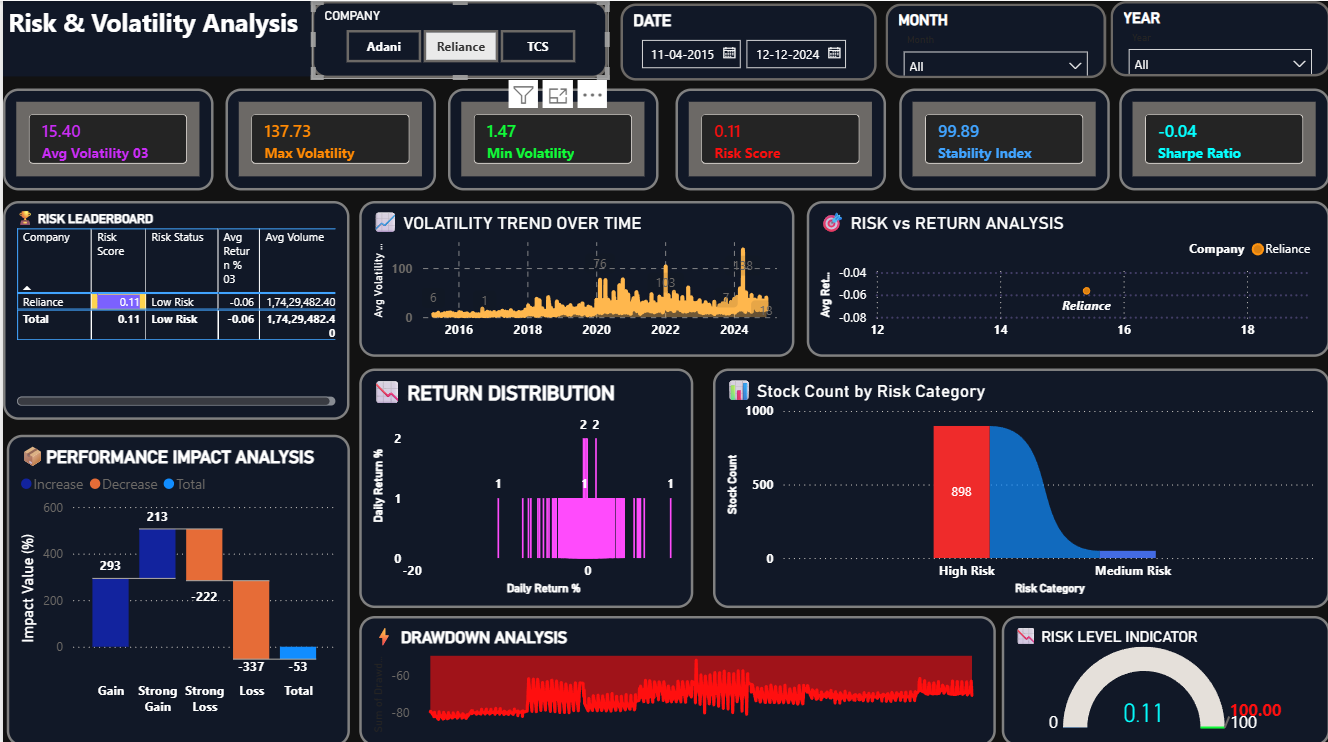

What the dashboard file says about the page in this screenshot:
{"tool":"powerbi","page":{"name":"⚠  Risk & Volatility Analysis","canvas":[1280,720],"ordinal":2},"visuals":[{"type":"textbox","box":[0,0,298,72.6],"z":0},{"type":"slicer","title":"COMPANY","fields":{"Values":["feature_engineered_stock_data.Company"]},"box":[298.1,0,285.9,74.5],"z":1000},{"type":"slicer","title":"DATE","fields":{"Values":["feature_engineered_stock_data.Date"]},"box":[596.3,2.4,246.8,74.5],"z":2000},{"type":"slicer","title":"MONTH","fields":{"Values":["feature_engineered_stock_data.Month"]},"box":[851.6,2.4,212.6,72.1],"z":3000},{"type":"slicer","title":"YEAR","fields":{"Values":["feature_engineered_stock_data.Year"]},"box":[1068.7,0,211.8,72.6],"z":4000},{"type":"cardVisual","fields":{"Data":["Measure_Table_03.Avg Volatility 03"]},"box":[0,85,203.2,98.5],"z":5000},{"type":"cardVisual","fields":{"Data":["Measure_Table_03.Max Volatility"]},"box":[214.2,85,203.2,98.5],"z":6000},{"type":"cardVisual","fields":{"Data":["Measure_Table_03.Min Volatility"]},"box":[429.7,85,203.2,98.5],"z":7000},{"type":"cardVisual","fields":{"Data":["Measure_Table_03.Risk Score"]},"box":[648.9,85,203.2,98.5],"z":8000},{"type":"cardVisual","fields":{"Data":["Measure_Table_03.Stability Index"]},"box":[865.6,85,203.2,98.5],"z":9000},{"type":"cardVisual","fields":{"Data":["Measure_Table_03.Sharpe Ratio"]},"box":[1077.3,85,203.2,98.5],"z":10000},{"type":"gauge","title":" 📉 RISK LEVEL INDICATOR","fields":{"Y":["Measure_Table_03.Risk Score"],"MaxValue":["Measure_Table_03.Risk Max"],"MinValue":["Measure_Table_03.Risk Min"]},"box":[964,593.8,316.5,125.9],"z":11000},{"type":"areaChart","title":"📈 VOLATILITY TREND OVER TIME","fields":{"Y":["Measure_Table_03.Avg Volatility 03"],"Category":["feature_engineered_stock_data.Date.Variation.Date Hierarchy.Year","feature_engineered_stock_data.Date.Variation.Date Hierarchy.Quarter","feature_engineered_stock_data.Date.Variation.Date Hierarchy.Month","feature_engineered_stock_data.Date.Variation.Date Hierarchy.Day"]},"box":[343.3,193.1,420.3,150.3],"z":12000},{"type":"tableEx","title":"🏆 RISK LEADERBOARD","fields":{"Values":["feature_engineered_stock_data.Company","Measure_Table_03.Risk Score","Measure_Table_03.Risk Status","Measure_Table_03.Avg Return % 03","Ranking Measure.Avg Volume"]},"box":[0,193.1,334.8,211.4],"z":13000},{"type":"scatterChart","title":"🎯 RISK vs RETURN ANALYSIS","fields":{"X":["Measure_Table_03.Avg Volatility 03"],"Y":["Measure_Table_03.Avg Return % 03"],"Category":["feature_engineered_stock_data.Company"],"Size":["Ranking Measure.Avg Volume"],"Series":["feature_engineered_stock_data.Company"]},"box":[775.9,193.1,504.6,150.3],"z":14000},{"type":"clusteredColumnChart","title":"📉 RETURN DISTRIBUTION","fields":{"Category":["feature_engineered_stock_data.Daily_Return_Percentage"],"Y":["Measure_Table_02.Return Frequency"]},"box":[343.3,354.3,322.6,230.9],"z":15000},{"type":"ribbonChart","title":"📊 Stock Count by Risk Category","fields":{"Category":["feature_engineered_stock_data.Risk Category"],"Y":["Measure_Table_03.Stock Count"]},"box":[685.5,354.3,595,230.9],"z":16000},{"type":"waterfallChart","title":"📦PERFORMANCE IMPACT ANALYSIS","fields":{"Category":["feature_engineered_stock_data.Return Category"],"Y":["Measure_Table_03.Impact Value"]},"box":[3.7,419.1,331.1,300.6],"z":17000},{"type":"areaChart","title":"⚡ DRAWDOWN ANALYSIS","fields":{"Y":["Sum(feature_engineered_stock_data.Drawdown %)"],"Category":["feature_engineered_stock_data.Date.Variation.Date Hierarchy.Year","feature_engineered_stock_data.Date.Variation.Date Hierarchy.Quarter","feature_engineered_stock_data.Date.Variation.Date Hierarchy.Month","feature_engineered_stock_data.Date.Variation.Date Hierarchy.Day"]},"box":[343.3,593.8,614.6,125.9],"z":18000}]}

Visuals, with their boxes in screenshot pixels (x1, y1, x2, y2), scaled from the page's 1280x720 canvas onto the 1328x742 screenshot:
textbox: left=0, top=0, right=309, bottom=75
"COMPANY" slicer: left=309, top=0, right=606, bottom=77
"DATE" slicer: left=619, top=2, right=875, bottom=79
"MONTH" slicer: left=884, top=2, right=1104, bottom=77
"YEAR" slicer: left=1109, top=0, right=1327, bottom=75
cardVisual - Measure_Table_03.Avg Volatility 03: left=0, top=88, right=211, bottom=189
cardVisual - Measure_Table_03.Max Volatility: left=222, top=88, right=433, bottom=189
cardVisual - Measure_Table_03.Min Volatility: left=446, top=88, right=657, bottom=189
cardVisual - Measure_Table_03.Risk Score: left=673, top=88, right=884, bottom=189
cardVisual - Measure_Table_03.Stability Index: left=898, top=88, right=1109, bottom=189
cardVisual - Measure_Table_03.Sharpe Ratio: left=1118, top=88, right=1327, bottom=189
" 📉 RISK LEVEL INDICATOR" gauge: left=1000, top=612, right=1327, bottom=741
"📈 VOLATILITY TREND OVER TIME" areaChart: left=356, top=199, right=792, bottom=354
"🏆 RISK LEADERBOARD" tableEx: left=0, top=199, right=347, bottom=417
"🎯 RISK vs RETURN ANALYSIS" scatterChart: left=805, top=199, right=1327, bottom=354
"📉 RETURN DISTRIBUTION" clusteredColumnChart: left=356, top=365, right=691, bottom=603
"📊 Stock Count by Risk Category" ribbonChart: left=711, top=365, right=1327, bottom=603
"📦PERFORMANCE IMPACT ANALYSIS" waterfallChart: left=4, top=432, right=347, bottom=741
"⚡ DRAWDOWN ANALYSIS" areaChart: left=356, top=612, right=994, bottom=741
